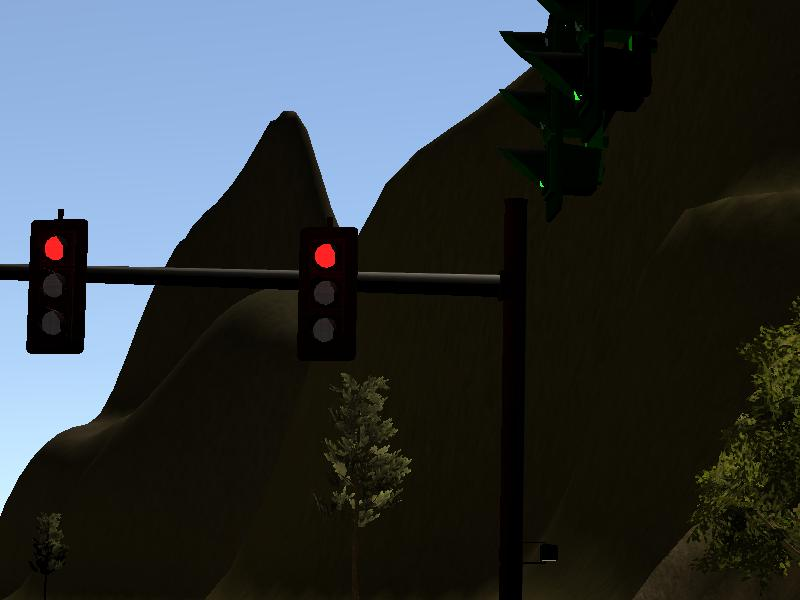red: (26, 218, 85, 354), (300, 227, 358, 363)
